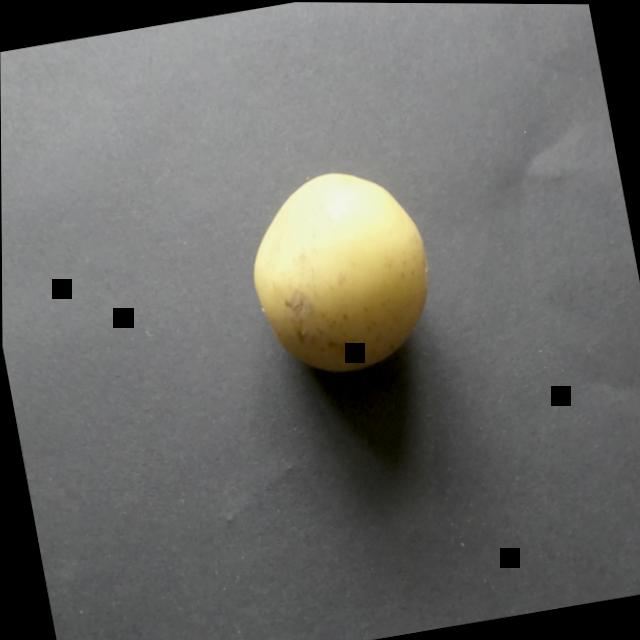Potato: (203, 134, 472, 423)
